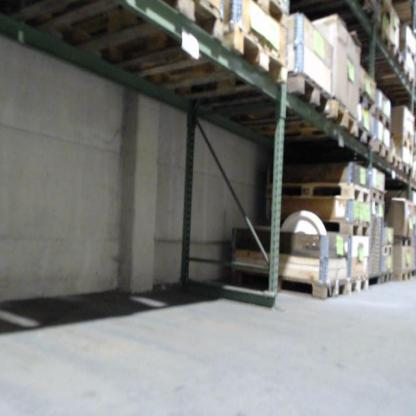pallet: (43, 2, 226, 84), (154, 25, 288, 85), (204, 75, 334, 122), (257, 98, 361, 144), (229, 269, 347, 298), (266, 179, 370, 205), (218, 1, 292, 32), (339, 27, 401, 61), (264, 215, 373, 234), (300, 1, 380, 26), (371, 58, 415, 92), (370, 1, 403, 32), (355, 123, 376, 154), (357, 91, 376, 119), (372, 138, 389, 168), (388, 135, 414, 154), (396, 39, 416, 61), (348, 276, 368, 297), (390, 268, 412, 284), (371, 185, 388, 205), (378, 105, 391, 131), (390, 236, 412, 250), (390, 152, 401, 176), (401, 163, 414, 181), (379, 270, 395, 284), (379, 243, 395, 254)
